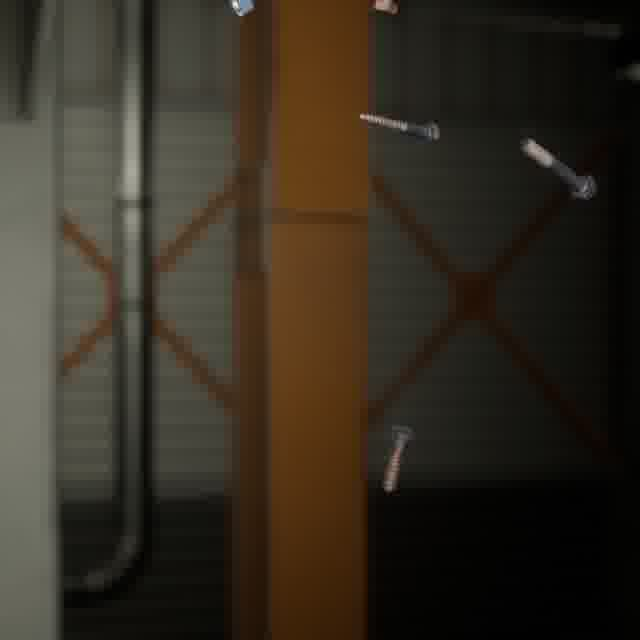bolt: (515, 133, 601, 206), (353, 108, 444, 150), (378, 420, 418, 497), (366, 0, 402, 22)
nut: (224, 0, 258, 22)
